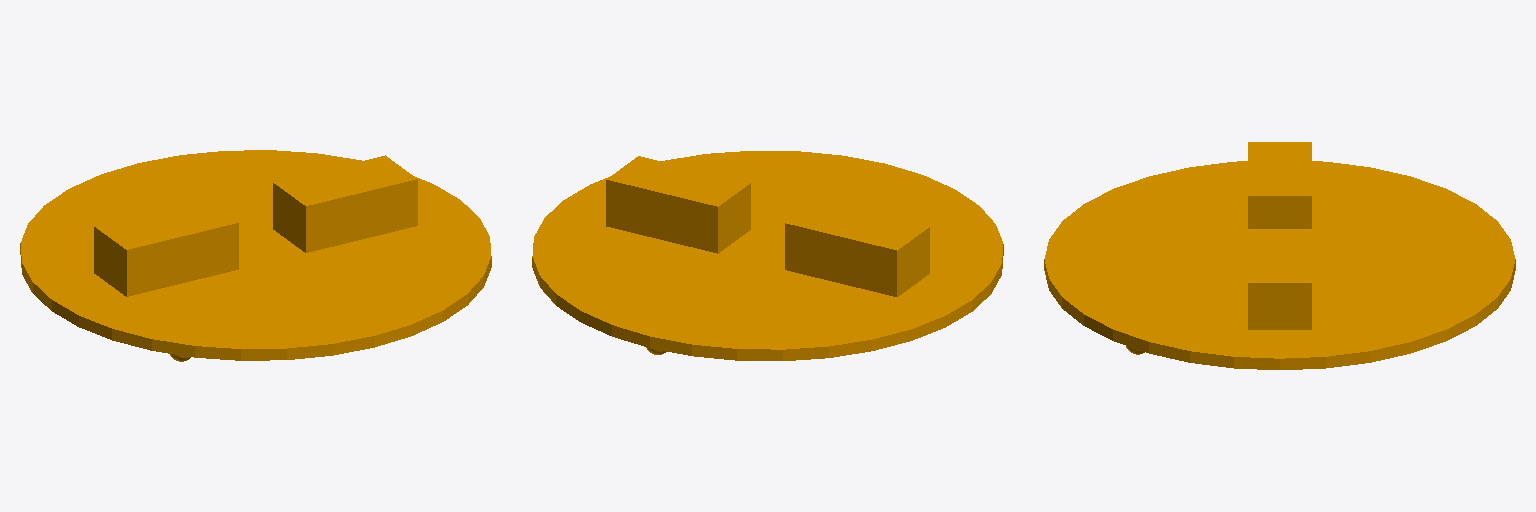
robot.urdf — myfirst:
<?xml version="1.0"?>
<robot name="myfirst">
  <!-- <link name="base_link">
    <visual>
      <geometry>
        <cylinder length="0.6" radius="0.2"/>
      </geometry>
    </visual>
  </link> -->

  <link name="right_tip">
    <visual>
      <origin rpy="0 0 0" xyz="0 0 0"/>
        <geometry>
          <mesh filename="package://microrobot/meshes/first_model.dae"/>
        </geometry>
      </visual>
    </link>
  
</robot>

--- Facts derived from the render (not from the file) ---
Views: 3 orthographic renders of the robot side by side, from view 1: azimuth 30°, elevation 25°; view 2: azimuth 150°, elevation 25°; view 3: azimuth 270°, elevation 25°.
Model myfirst with 1 links and 0 joints (none), rooted at right_tip, posed all joints at 0.
Visible links, largest first — view 1: right_tip; view 2: right_tip; view 3: right_tip.
Link boxes in pixels (x1=…): right_tip: x1=20, y1=150, x2=491, y2=361; right_tip: x1=532, y1=151, x2=1003, y2=360; right_tip: x1=1044, y1=142, x2=1515, y2=369.
Bounding box of the posed robot: 0.0365 × 0.0365 × 0.006 m (x, y, z).
1 mesh visuals loaded from 1 distinct referenced files (1 Collada DAE).
